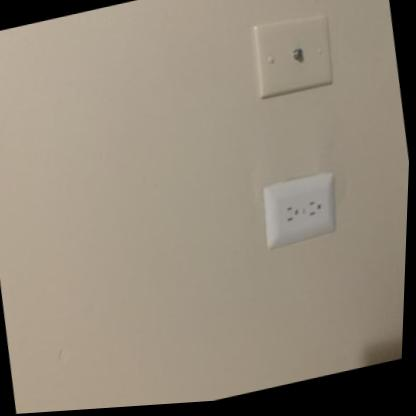OUTLET: (255, 168, 342, 251)
